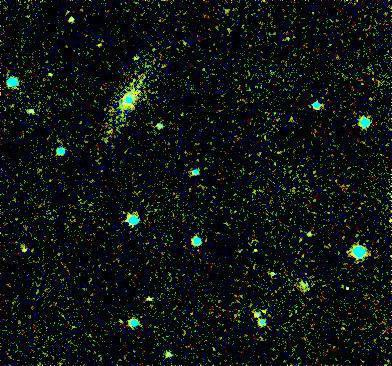star: (250, 296, 280, 326)
